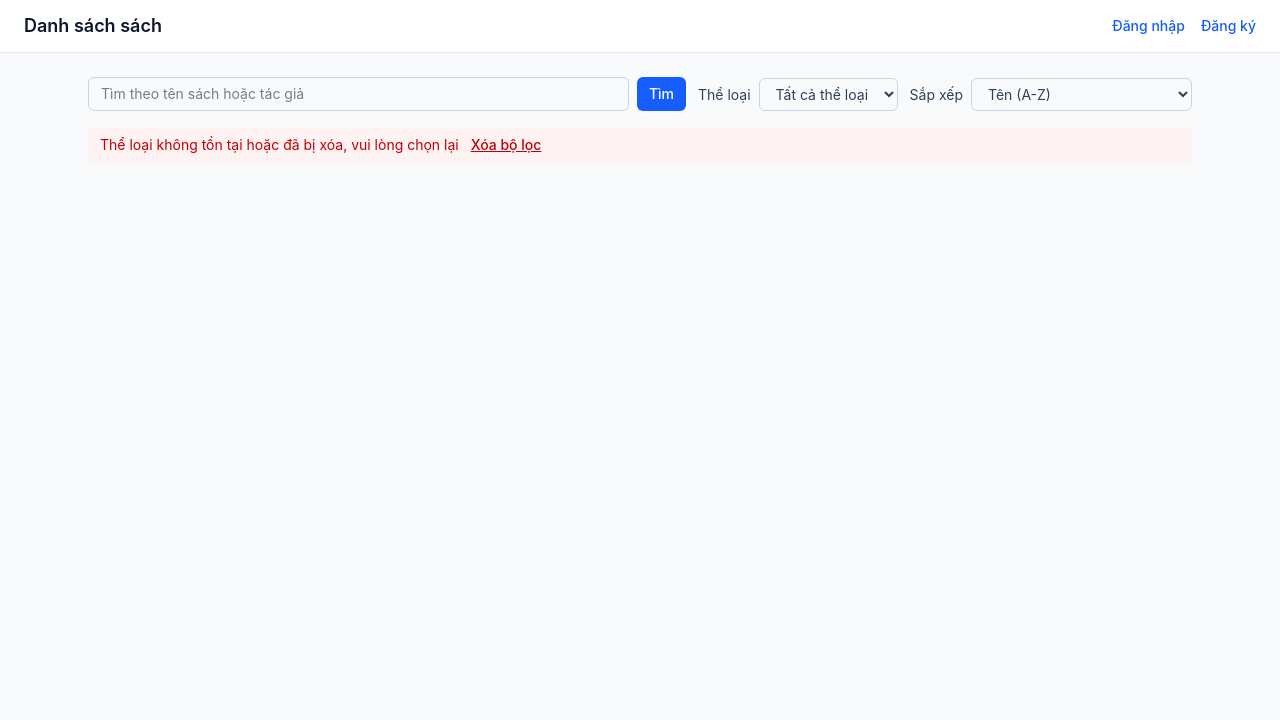
Test case: BooksPage (2.2.3) › thể loại trên URL không tồn tại → 400, báo lỗi kèm nút xóa bộ lọc
Expected: the message shows "Thể loại không tồn tại", [100, 136, 459, 153]
Click the button "Xóa bộ lọc".
click(506, 145)  # box [471, 135, 541, 155]
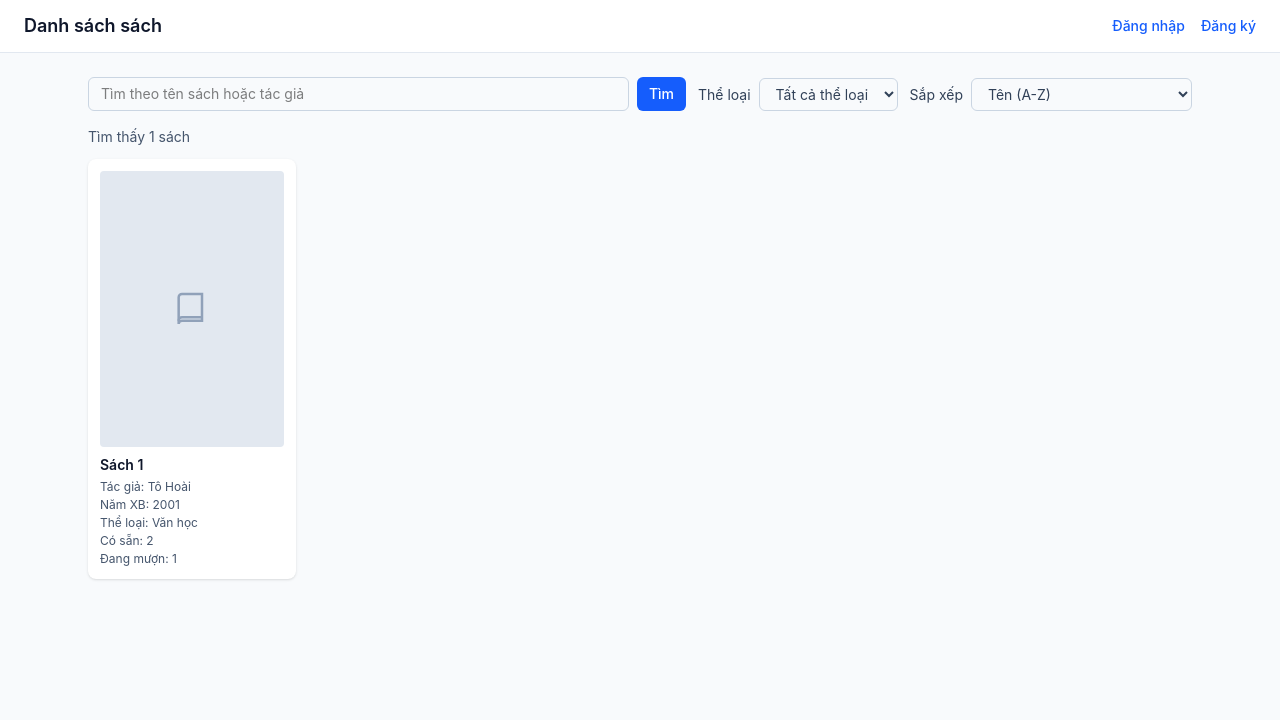
Expected: the element "Sách 1" is shown, [100, 171, 284, 567]
